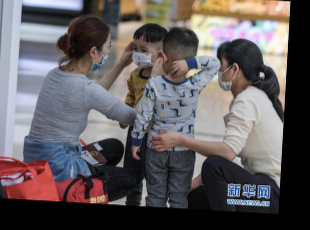with_mask: (130, 42, 156, 68), (93, 39, 111, 73), (216, 58, 233, 92)
